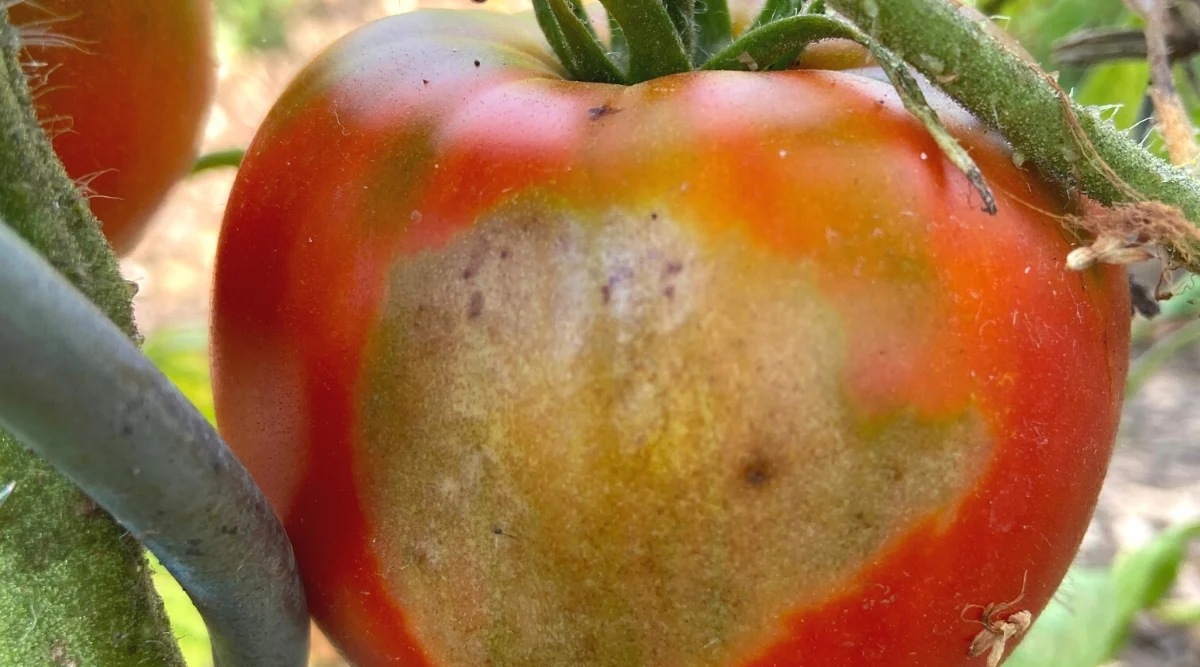rotten tomato: (281, 21, 1099, 656)
